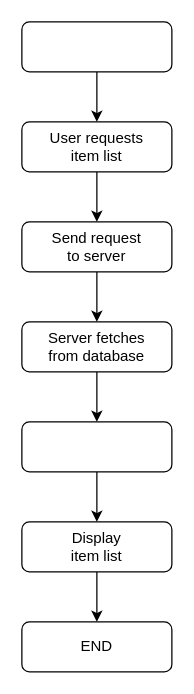
Image size: 194x694. Some labels were removed from this diagram. Each missing label, with the centre of its shape:
"Return item list to client" goes at (x=96, y=446).
"START" goes at (x=96, y=46).
